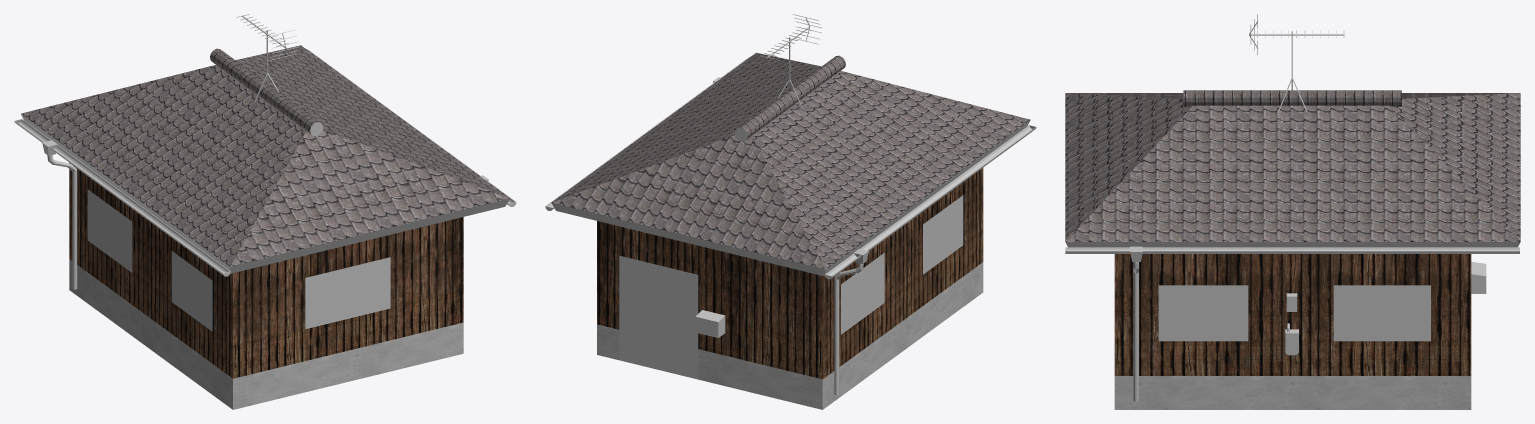
Rendered from JapaneseHouse03.fbx.
3 renders of one model, left to right at view 1: azimuth 30°, elevation 25°; view 2: azimuth 150°, elevation 25°; view 3: azimuth 270°, elevation 25°, orthographic. The views are drawn at different scales.
Visible parts, largest first — view 1: Empty_Mesh; view 2: Empty_Mesh; view 3: Empty_Mesh.
Boxes of the visible parts, x1,y1,x2,y2 form: Empty_Mesh: [14, 14, 516, 409]; Empty_Mesh: [545, 14, 1036, 409]; Empty_Mesh: [1065, 14, 1520, 409].
Bounding box in the file's own units: 690 × 668 × 841.
